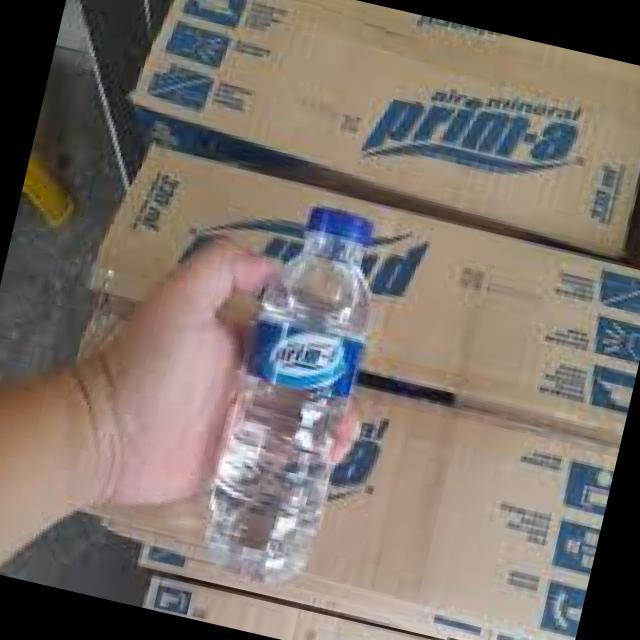good: (188, 176, 412, 600)
